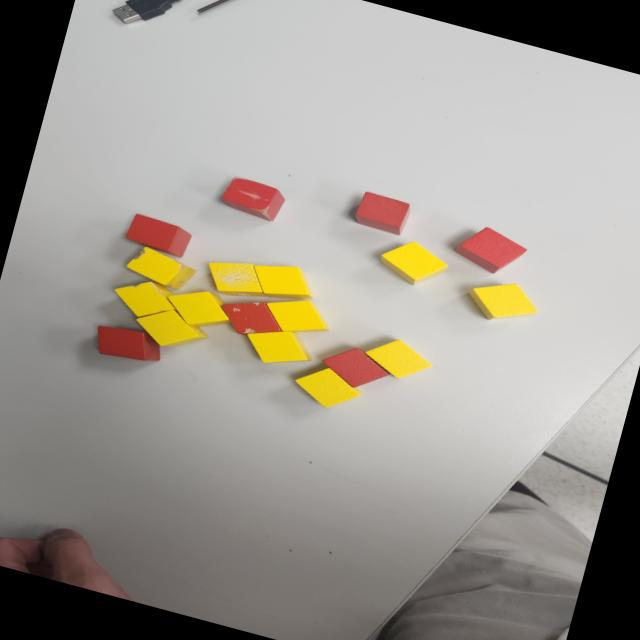broken: (107, 272, 184, 326), (122, 242, 200, 294), (216, 293, 287, 344), (218, 174, 289, 224), (203, 252, 272, 302), (123, 210, 194, 257)
red: (451, 220, 532, 282), (318, 339, 394, 396), (90, 320, 166, 368), (122, 210, 194, 256), (352, 190, 412, 237)
yellow: (130, 299, 215, 359), (284, 358, 368, 417), (462, 272, 544, 332), (374, 233, 452, 293), (160, 280, 237, 336), (360, 332, 438, 387), (259, 289, 336, 344), (247, 256, 322, 310), (242, 320, 316, 372)
